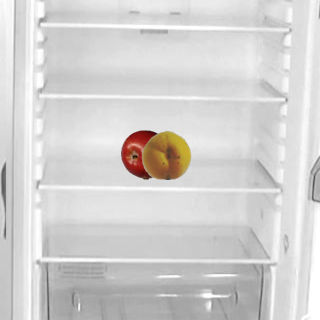Apple Braeburn: (120, 129, 170, 179)
Peach 2: (141, 129, 191, 179)
